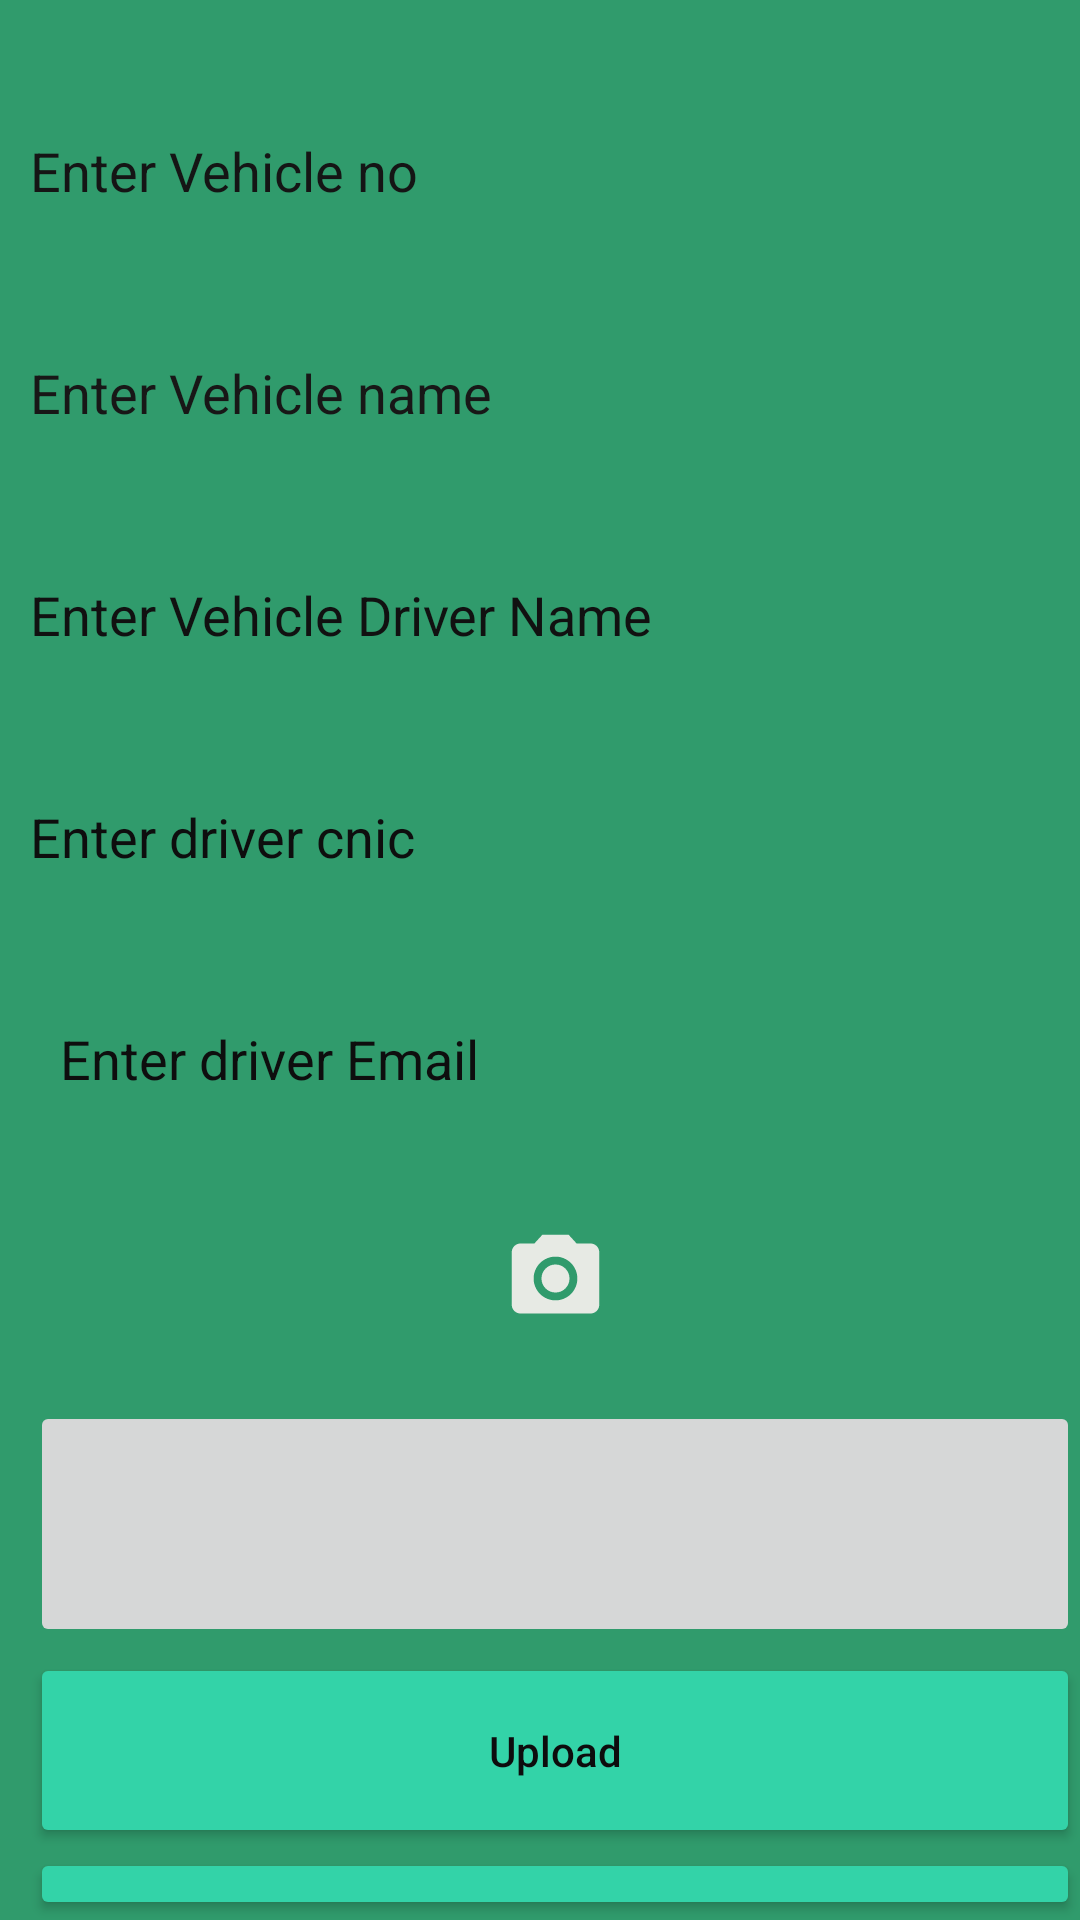

Icons on this 1080px×1920px Android screen, each with the point to tap as [x,y]:
photo camera: [555,1274]
